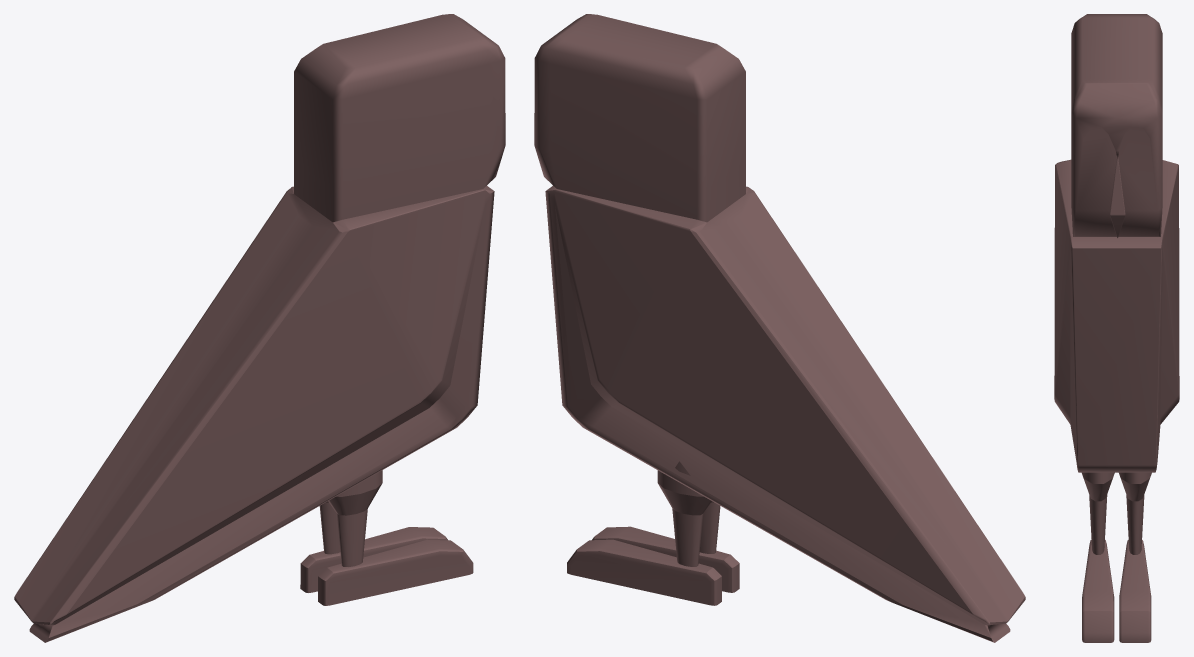
File: Ficha Buho Tablero.fbx
3 renders of one model, left to right at view 1: azimuth 30°, elevation 25°; view 2: azimuth 150°, elevation 25°; view 3: azimuth 270°, elevation 25°, orthographic. The views are drawn at different scales.
Parts seen in each view (by area): view 1: pCube44; view 2: pCube44; view 3: pCube44.
Part boxes in pixels (left/top/right/bottom): pCube44: left=14, top=14, right=505, bottom=642; pCube44: left=534, top=14, right=1025, bottom=642; pCube44: left=1054, top=14, right=1179, bottom=642.
Bounding box in the file's own units: 1.95 × 2.15 × 0.4317.
